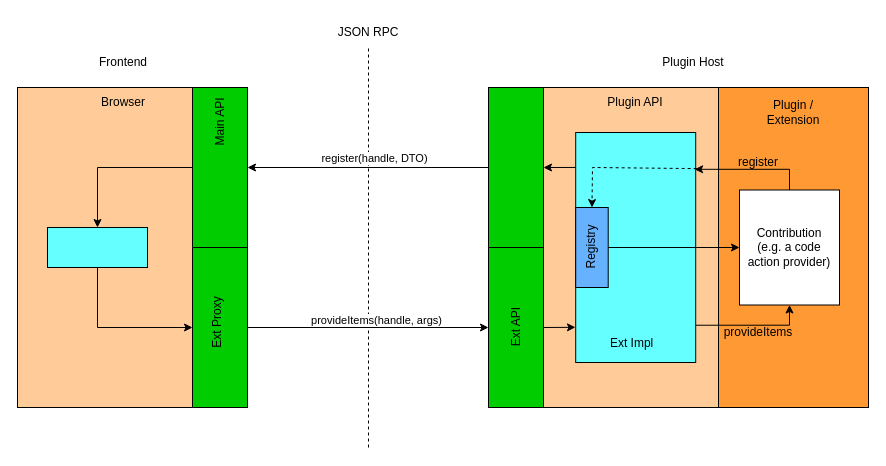
The diagram is 886 pixels wide and 466 high, and some of its shapes have lost their labels. The shapes that lost their labels are listed below. From the top down, each one's centre as x and y in pixels, then its label:
pixel 516 167: Main Proxy
pixel 97 247: Main Impl
